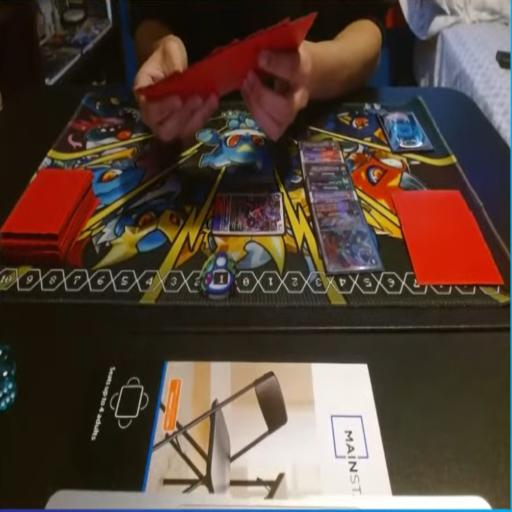card: (311, 201, 384, 275), (210, 187, 288, 237), (308, 179, 356, 205), (304, 160, 351, 183), (301, 150, 345, 168), (298, 139, 339, 152)
